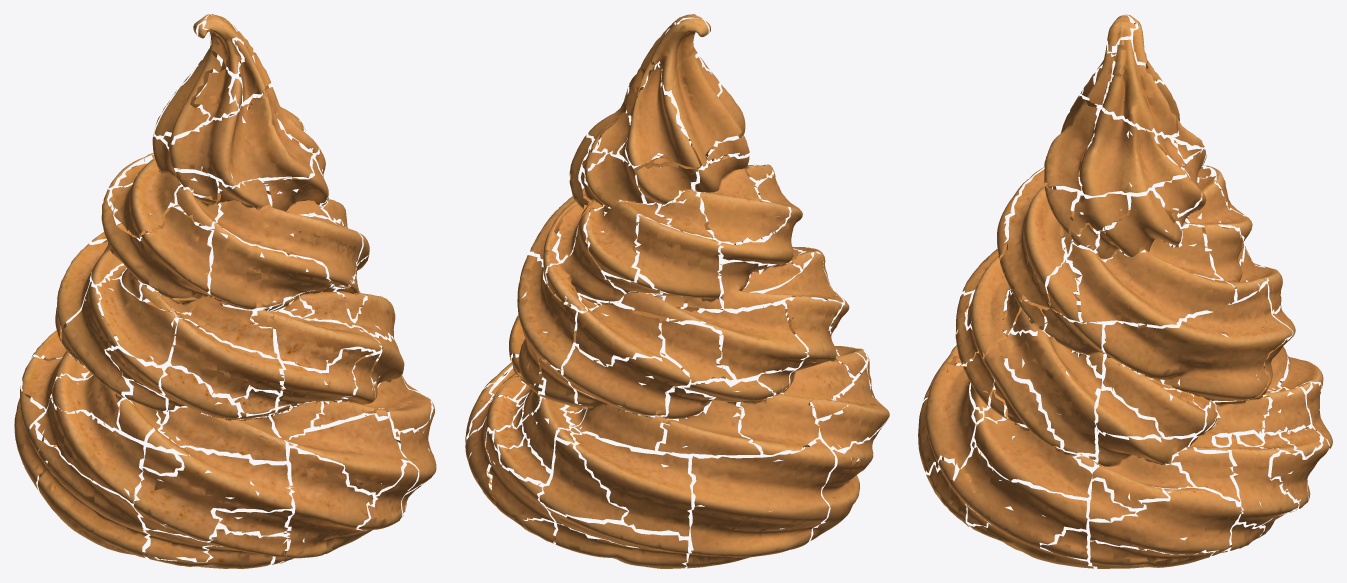
3 views of the same model, side by side, from view 1: azimuth 30°, elevation 25°; view 2: azimuth 150°, elevation 25°; view 3: azimuth 270°, elevation 25° (orthographic). The views are drawn at different scales.
Parts seen in each view (by area): view 1: tripo_node_b8dfb5de-5e4c-4d0a-9563-e6fb4f1361c8; view 2: tripo_node_b8dfb5de-5e4c-4d0a-9563-e6fb4f1361c8; view 3: tripo_node_b8dfb5de-5e4c-4d0a-9563-e6fb4f1361c8.
Boxes of the visible parts, left/top/right/bottom form: tripo_node_b8dfb5de-5e4c-4d0a-9563-e6fb4f1361c8: left=14, top=14, right=436, bottom=568; tripo_node_b8dfb5de-5e4c-4d0a-9563-e6fb4f1361c8: left=465, top=14, right=889, bottom=568; tripo_node_b8dfb5de-5e4c-4d0a-9563-e6fb4f1361c8: left=918, top=14, right=1332, bottom=568.
Bounding box in the file's own units: 0.7582 × 0.9807 × 0.7675.
1 material, 1 textured.
